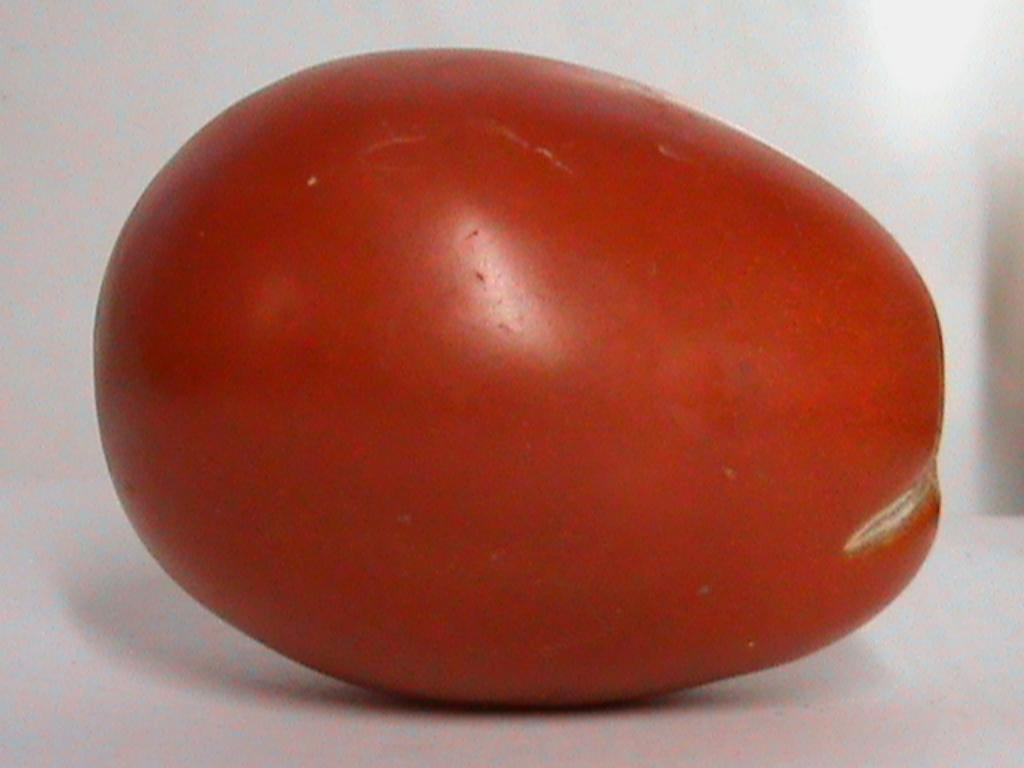surface_damage: (845, 461, 938, 554)
tomato: (94, 53, 941, 704)
